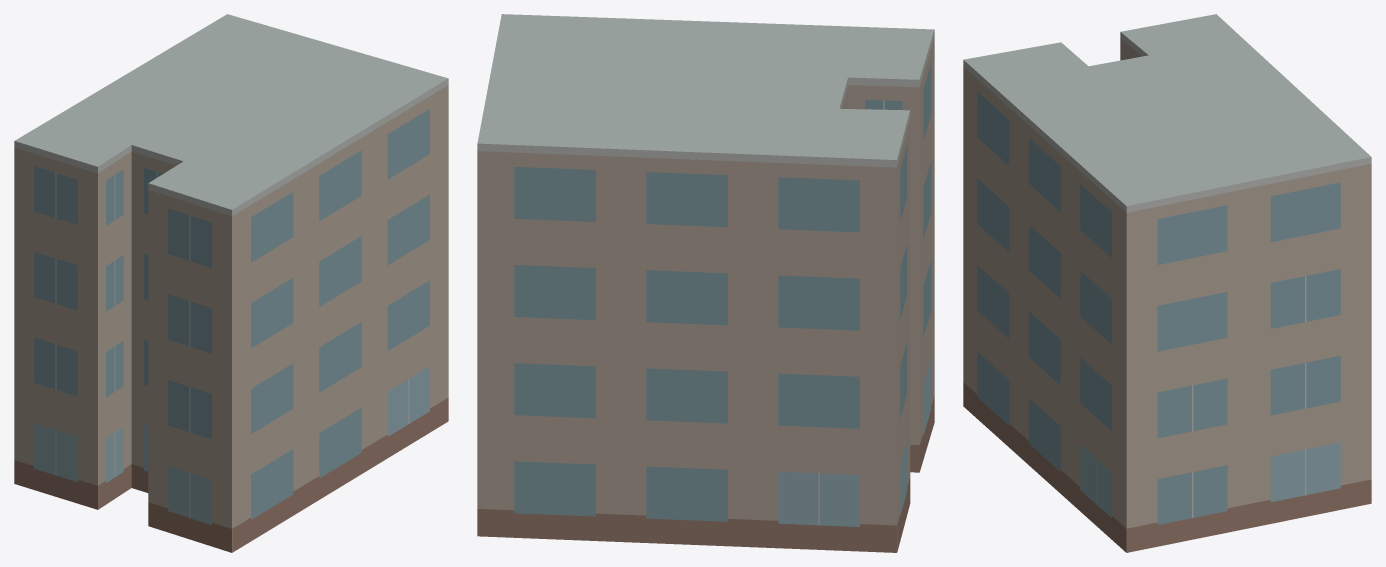
The model's file is survey-upis-32930012.glb.
3 views of the same model, side by side, from view 1: azimuth 30°, elevation 25°; view 2: azimuth 150°, elevation 25°; view 3: azimuth 270°, elevation 25° (orthographic). The views are drawn at different scales.
Visible parts, largest first — view 1: survey-upis-32930012.tmp; view 2: survey-upis-32930012.tmp; view 3: survey-upis-32930012.tmp.
Boxes of the visible parts, x1,y1,x2,y2 form: survey-upis-32930012.tmp: [14, 14, 448, 552]; survey-upis-32930012.tmp: [477, 14, 934, 552]; survey-upis-32930012.tmp: [963, 14, 1371, 552].
Bounding box in the file's own units: 15.22 × 12.79 × 13.66.
